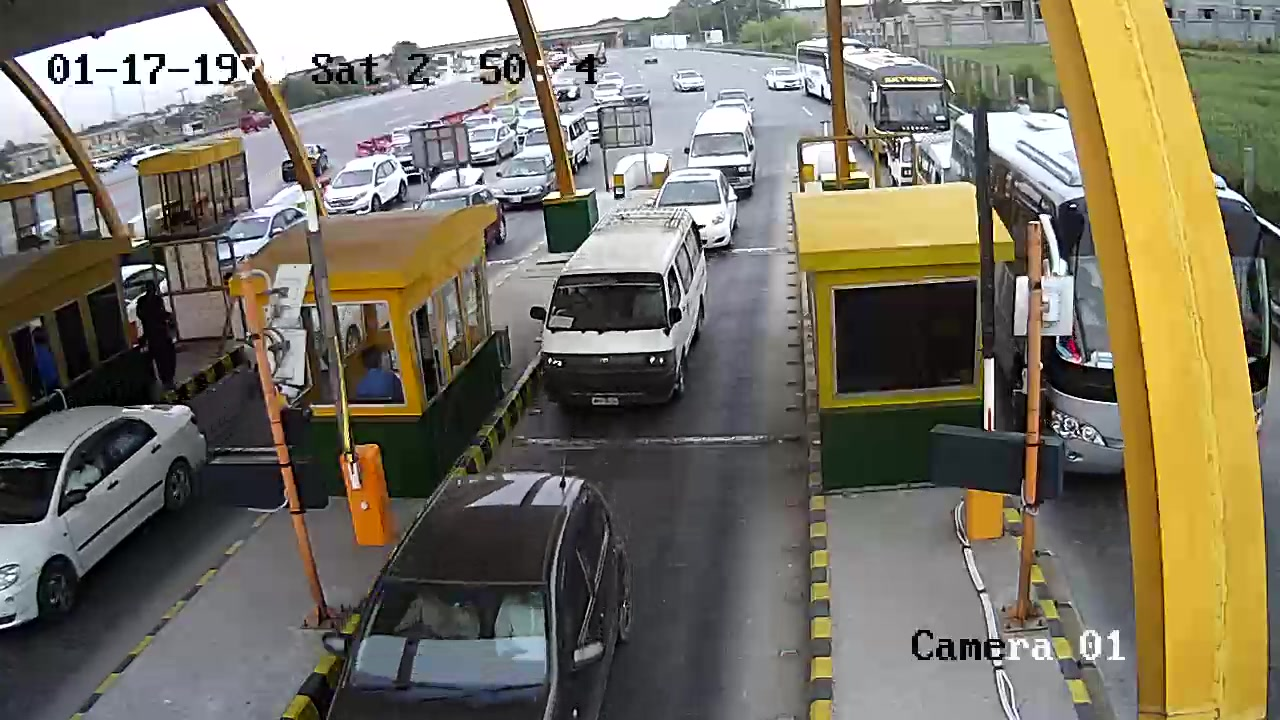F3: (539, 201, 716, 422)
